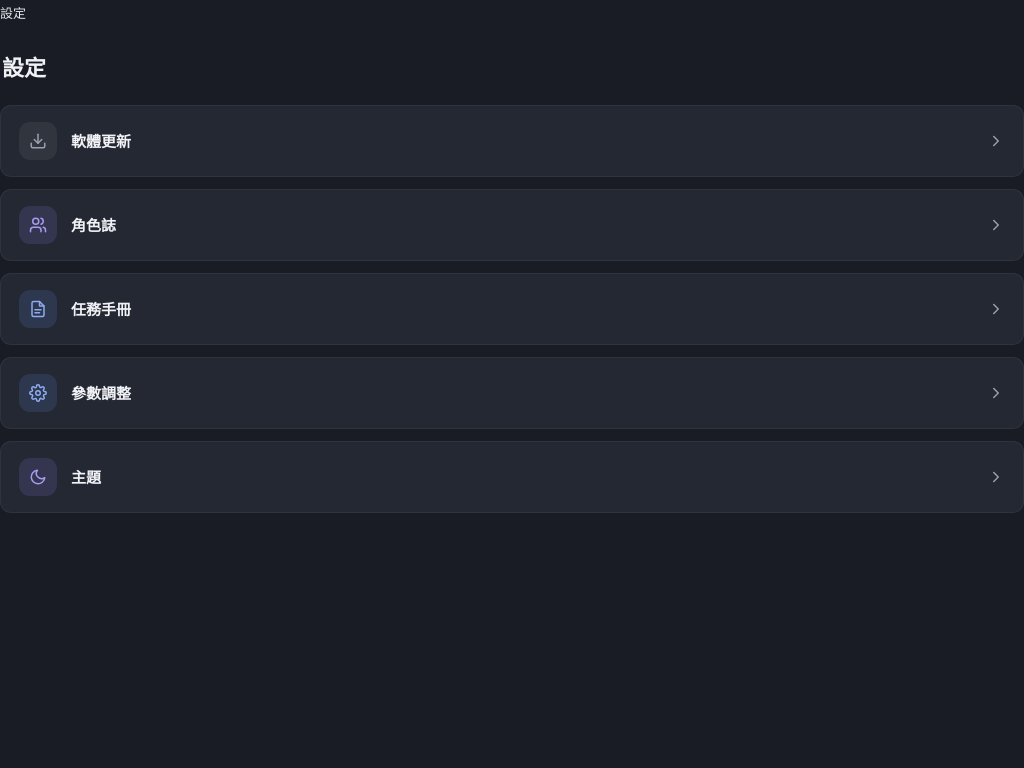
Test: 設定 › 任務手冊 — list › delete: open tasks of the type → 409, human message; free type deletes
What coordinates should you click on to do the following:
click the button with test id "settings-manuals-entry"
I would click on:
 (38, 308)
Its box is top-left (0, 272), bottom-right (1023, 344).
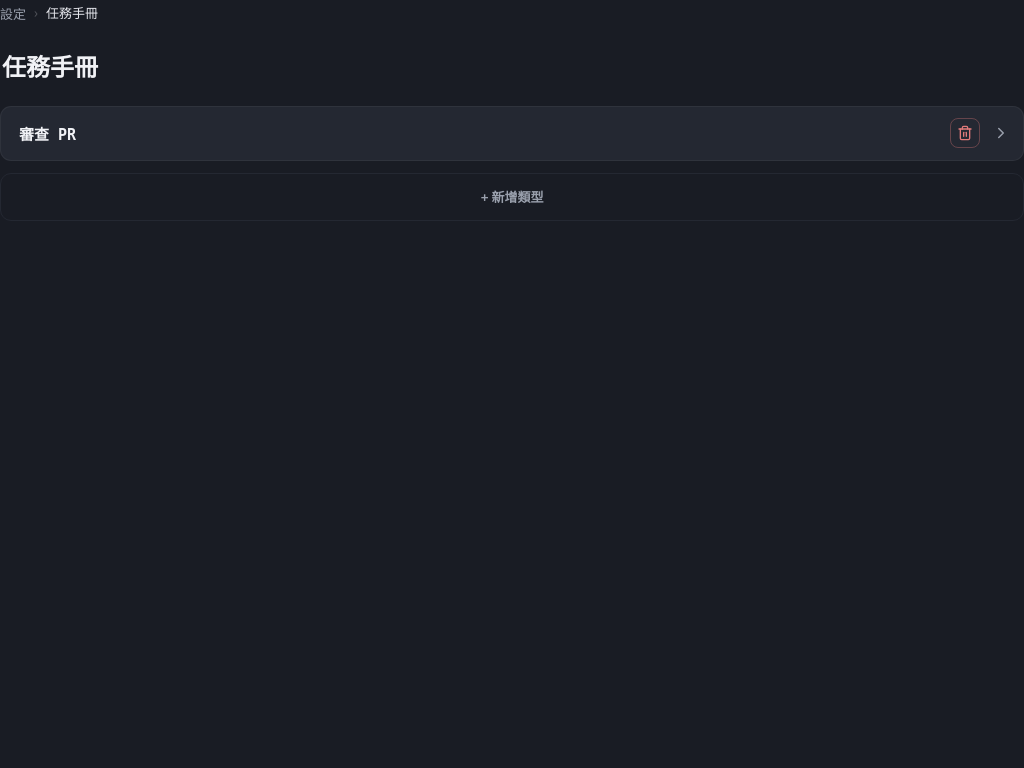
What coordinates should you click on to do the following:
click the button with test id "manual-delete-review-pr"
I would click on:
 (965, 133)
Its box is top-left (950, 118), bottom-right (980, 148).
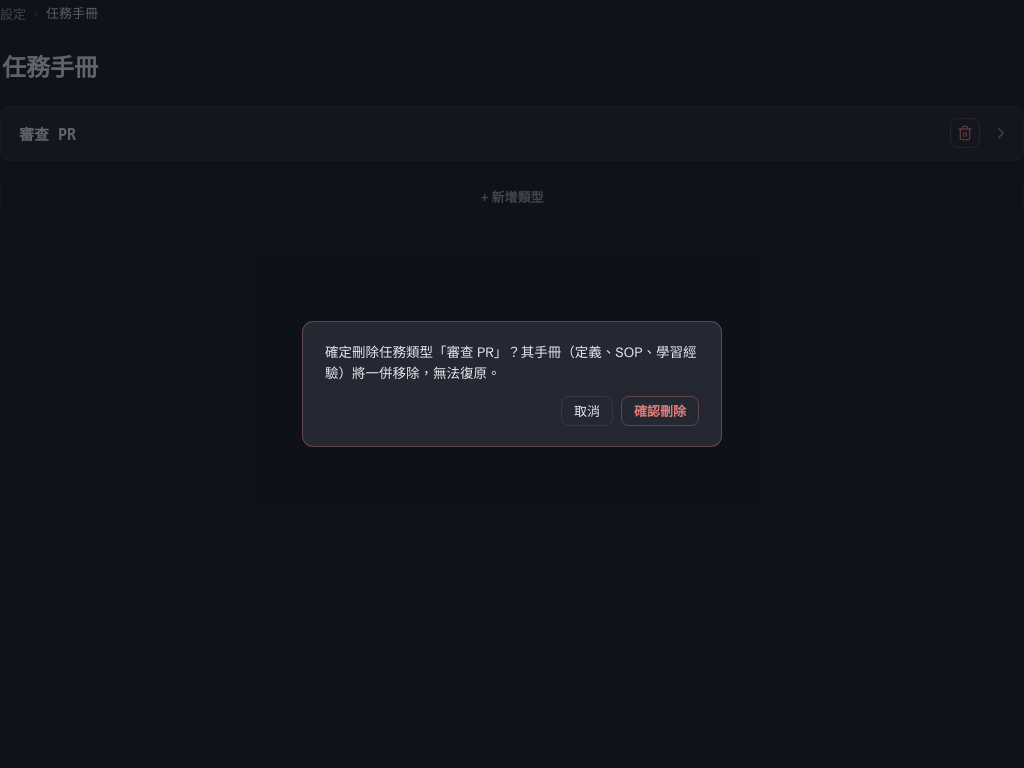
Expected: the dialog with test id "manual-delete-confirm" shows "審查 PR", top-left (325, 344), bottom-right (696, 381)
What coordinates should you click on to do the following:
click the button with test id "manual-delete-confirm-btn"
I would click on:
 (660, 411)
Its box is top-left (621, 396), bottom-right (699, 426).
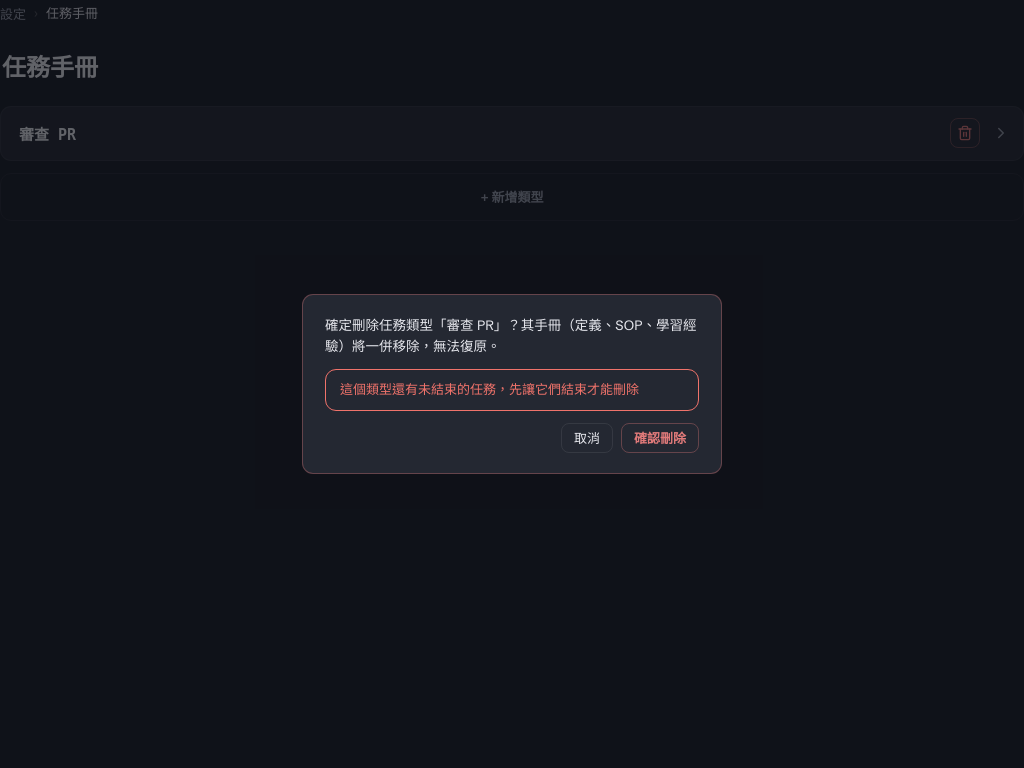
Expected: the button with test id "manual-open-review-pr" is shown, top-left (0, 106), bottom-right (1023, 160)
Expected: the dialog with test id "manual-delete-confirm" shows "這個類型還有未結束的任務，先讓它們結束才能刪除", top-left (340, 381), bottom-right (639, 397)
What coordinates should you click on to do the following:
click the button with test id "manual-delete-confirm-btn"
I would click on:
 (660, 438)
Its box is top-left (621, 423), bottom-right (699, 453).
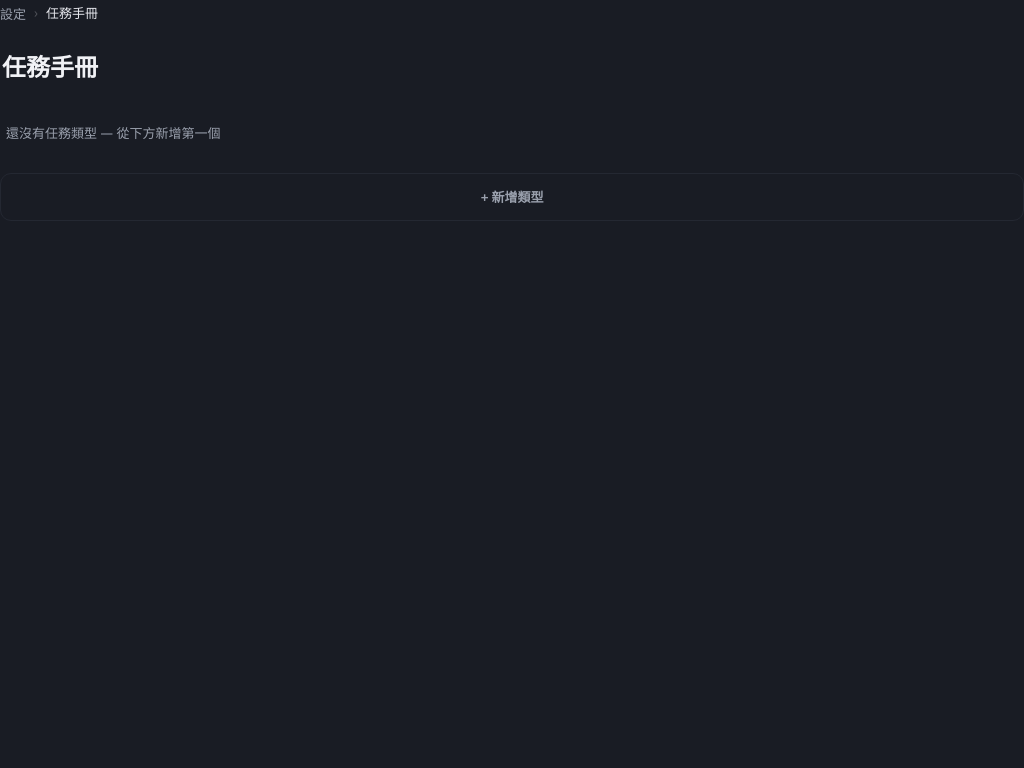
Expected: the button with test id "manual-open-review-pr" is gone
